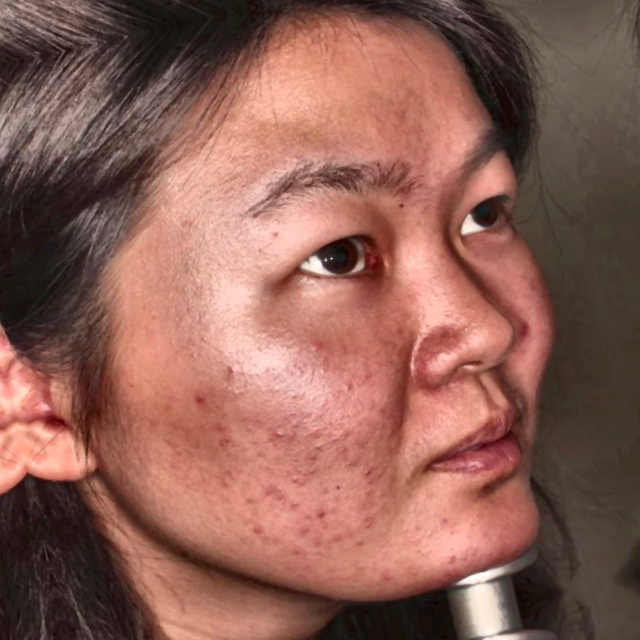comedone: (184, 389, 217, 413)
